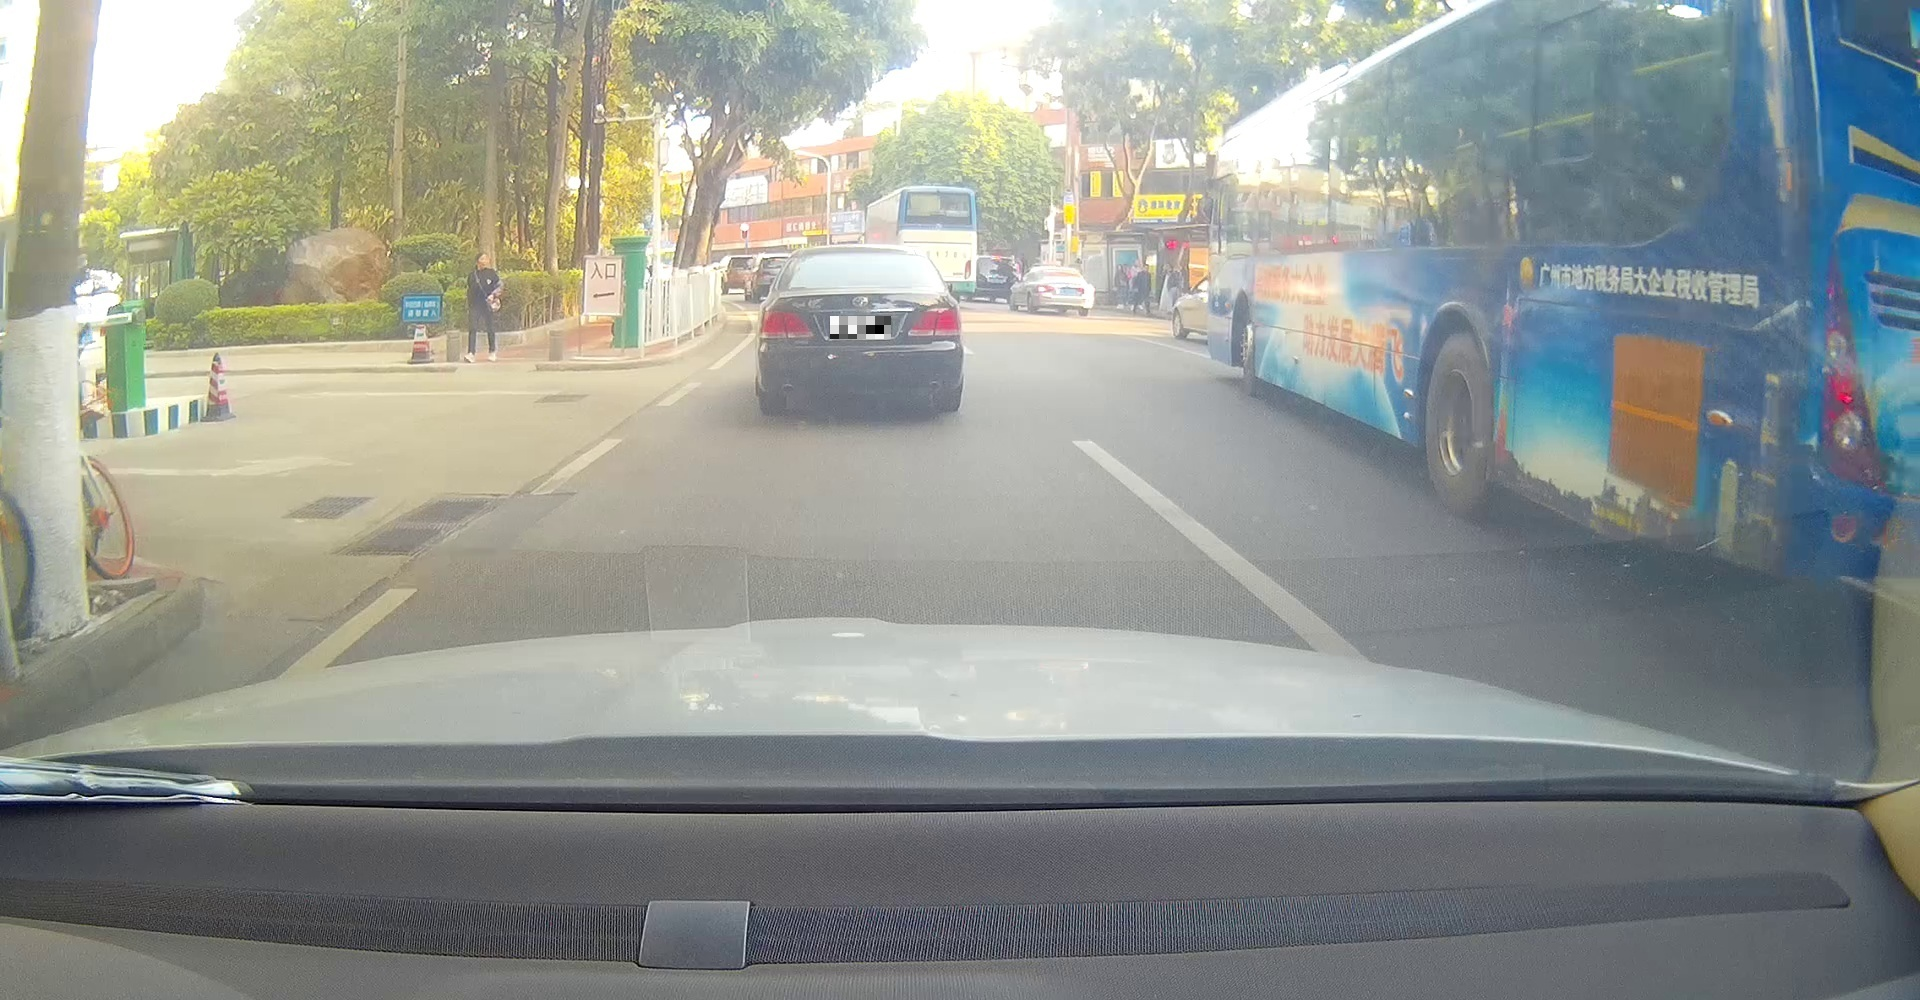L_light: (759, 310, 813, 339), (1034, 286, 1055, 293)
R_light: (907, 307, 963, 336), (1079, 286, 1095, 292)
T_light: (843, 286, 872, 288), (1053, 269, 1063, 272)
day-brake: (1034, 266, 1095, 316)
day-no: (757, 244, 964, 416)
plate_1: (830, 316, 891, 339)
